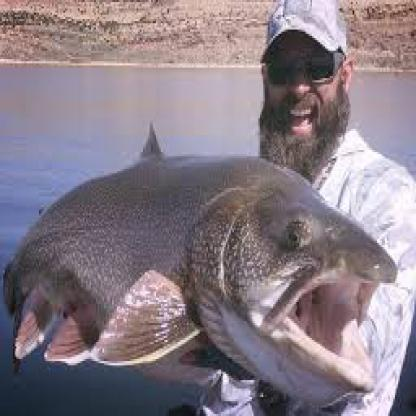fish: (0, 126, 393, 390)
